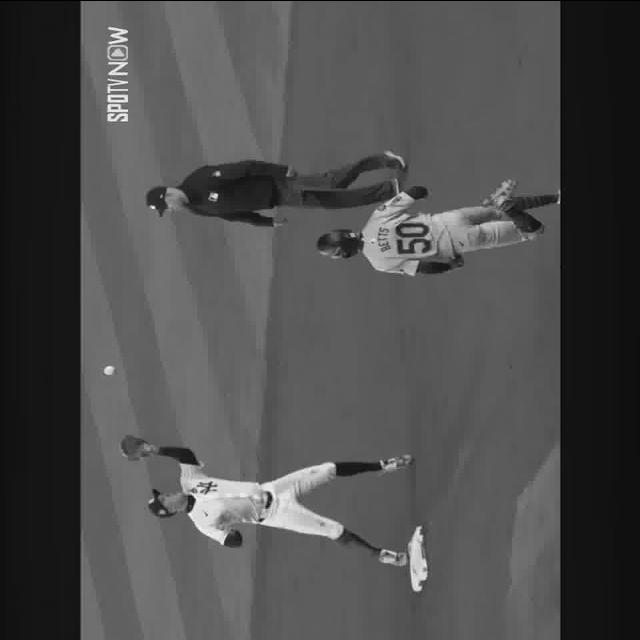base: (408, 525, 428, 591)
baseball: (102, 364, 117, 376)
baseball_glove: (118, 432, 147, 459)
shoe: (483, 179, 517, 209), (381, 452, 413, 471), (379, 149, 407, 170), (378, 548, 408, 566)
